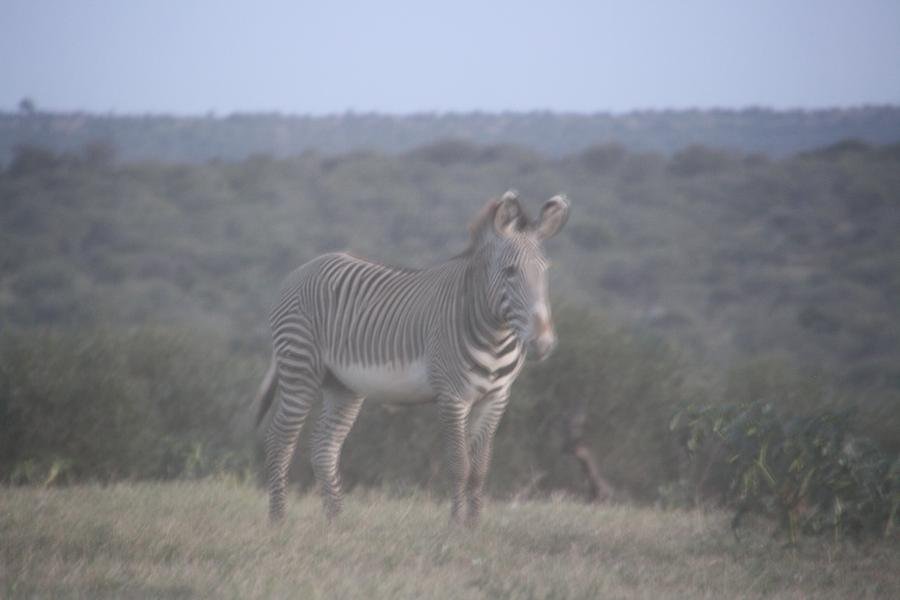zebra_grevys: (275, 244, 486, 388)
